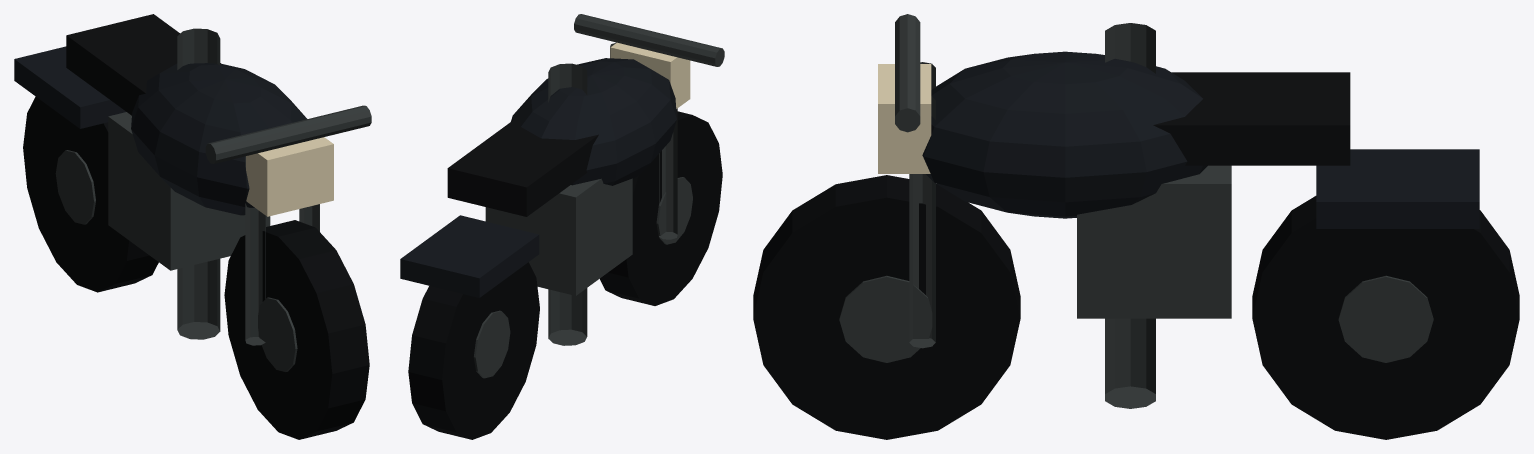
The model's file is Vehicle_Motorcycle.obj.
3 renders of one model, left to right at view 1: azimuth 30°, elevation 25°; view 2: azimuth 150°, elevation 25°; view 3: azimuth 270°, elevation 25°, orthographic. The views are drawn at different scales.
Parts seen in each view (by area): view 1: Wheel, FuelTank, Engine, Seat, HeadLamp, Frame, RearFender, WheelHub, Handlebar, FrontForkL, FrontForkR; view 2: Wheel, FuelTank, Engine, Seat, RearFender, Frame, Handlebar, WheelHub, HeadLamp, FrontForkL; view 3: Wheel, FuelTank, Engine, Seat, RearFender, WheelHub, Frame, HeadLamp, FrontForkR, Handlebar.
Boxes of the visible parts, x1=… form: Wheel: x1=23, y1=96, x2=369, y2=439; FuelTank: x1=131, y1=63, x2=306, y2=215; Engine: x1=108, y1=112, x2=270, y2=270; Seat: x1=66, y1=14, x2=220, y2=115; HeadLamp: x1=246, y1=137, x2=333, y2=216; Frame: x1=177, y1=28, x2=220, y2=339; RearFender: x1=14, y1=46, x2=125, y2=128; WheelHub: x1=55, y1=150, x2=297, y2=371; Handlebar: x1=205, y1=105, x2=371, y2=163; FrontForkL: x1=245, y1=156, x2=265, y2=345; FrontForkR: x1=299, y1=204, x2=319, y2=231; Wheel: x1=408, y1=111, x2=722, y2=439; FuelTank: x1=511, y1=58, x2=676, y2=185; Engine: x1=485, y1=178, x2=632, y2=295; Seat: x1=447, y1=115, x2=598, y2=216; RearFender: x1=400, y1=215, x2=539, y2=297; Frame: x1=548, y1=63, x2=587, y2=345; Handlebar: x1=574, y1=14, x2=724, y2=66; WheelHub: x1=473, y1=177, x2=692, y2=378; HeadLamp: x1=610, y1=42, x2=690, y2=108; FrontForkL: x1=659, y1=108, x2=677, y2=239; Wheel: x1=753, y1=175, x2=1519, y2=439; FuelTank: x1=922, y1=51, x2=1207, y2=218; Engine: x1=1077, y1=165, x2=1231, y2=318; Seat: x1=1153, y1=72, x2=1350, y2=165; RearFender: x1=1316, y1=149, x2=1479, y2=228; WheelHub: x1=839, y1=275, x2=1433, y2=362; Frame: x1=1105, y1=23, x2=1155, y2=408; HeadLamp: x1=878, y1=64, x2=931, y2=173; FrontForkR: x1=909, y1=96, x2=935, y2=348; Handlebar: x1=895, y1=14, x2=920, y2=132.
Bounding box in the file's own units: 0.75 × 1.47 × 2.58.
